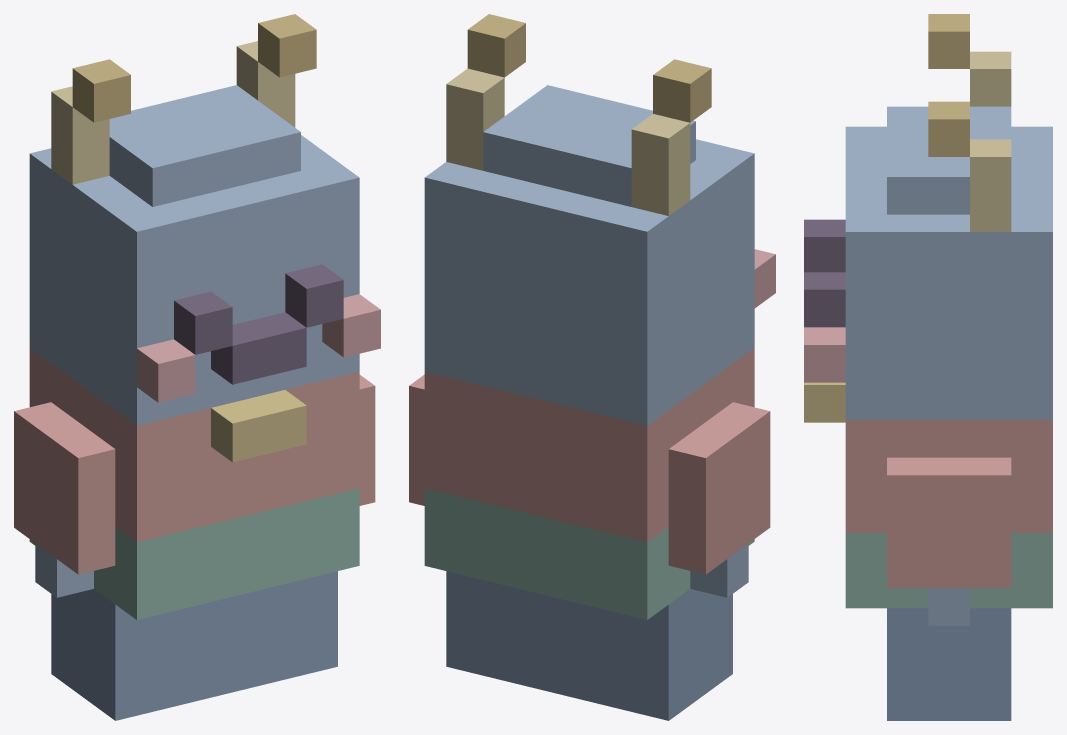
Rendered from char_dokkaebi.glb.
3 renders of one model, left to right at view 1: azimuth 30°, elevation 25°; view 2: azimuth 150°, elevation 25°; view 3: azimuth 270°, elevation 25°, orthographic. The views are drawn at different scales.
Parts seen in each view (by area): view 1: char_dokkaebi; view 2: char_dokkaebi; view 3: char_dokkaebi.
Part boxes in pixels (x1,y1,x2,y2): char_dokkaebi: [14, 14, 380, 720]; char_dokkaebi: [409, 14, 775, 720]; char_dokkaebi: [804, 14, 1052, 720].
Bounding box in the file's own units: 0.8 × 1.6 × 0.6.
